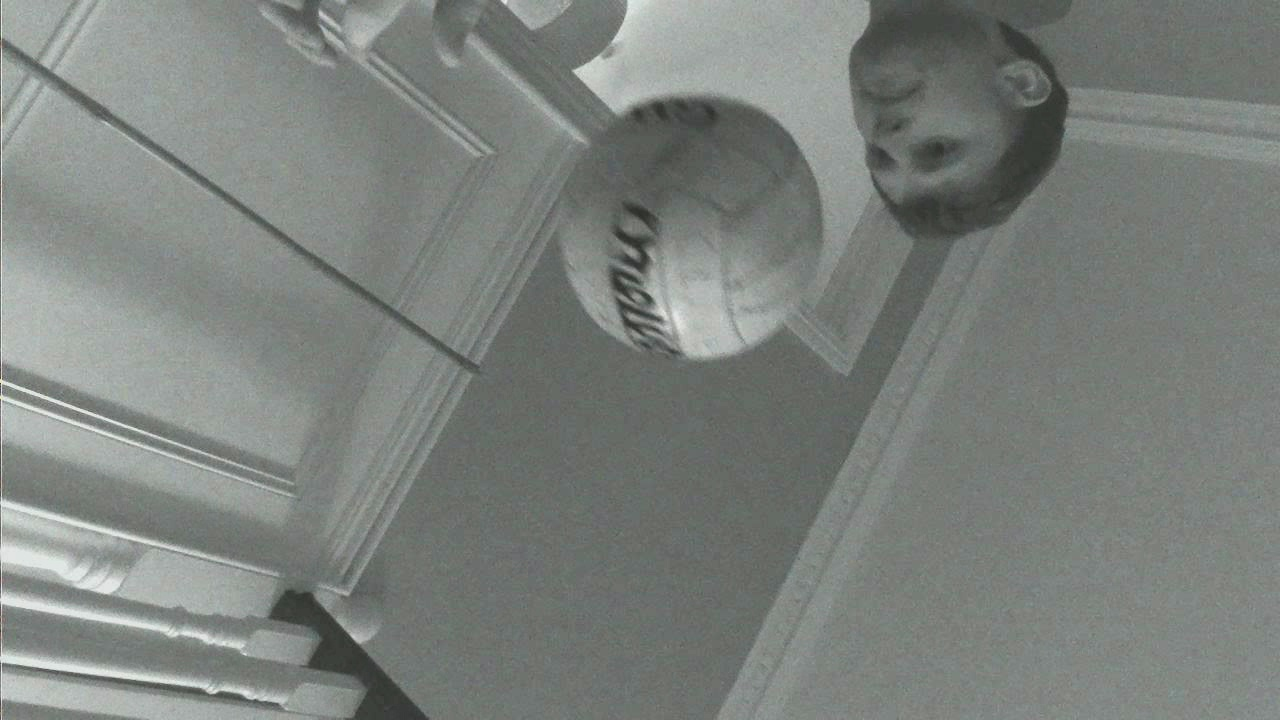Football-Spotter: (560, 98, 822, 360)
